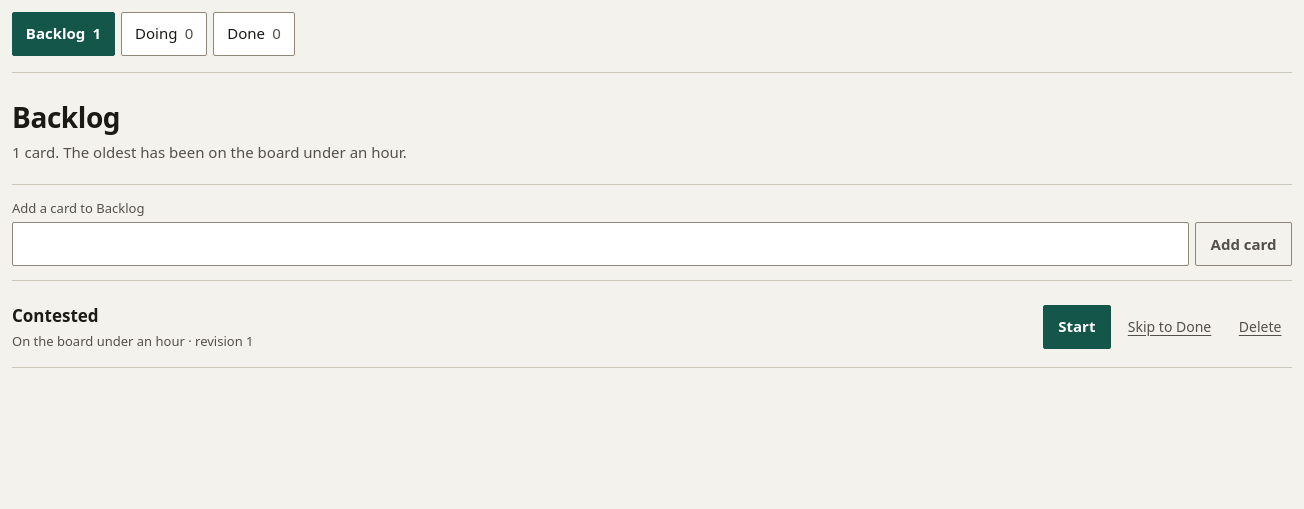
Test case: Board › keeps the board it has and says how to recover when a move is stale
Expected: the text "Contested" is shown, [12,304,99,327]
Click the button named "Start: move \"Contested\" to Doing": (1077, 327) [1043,305,1111,349]
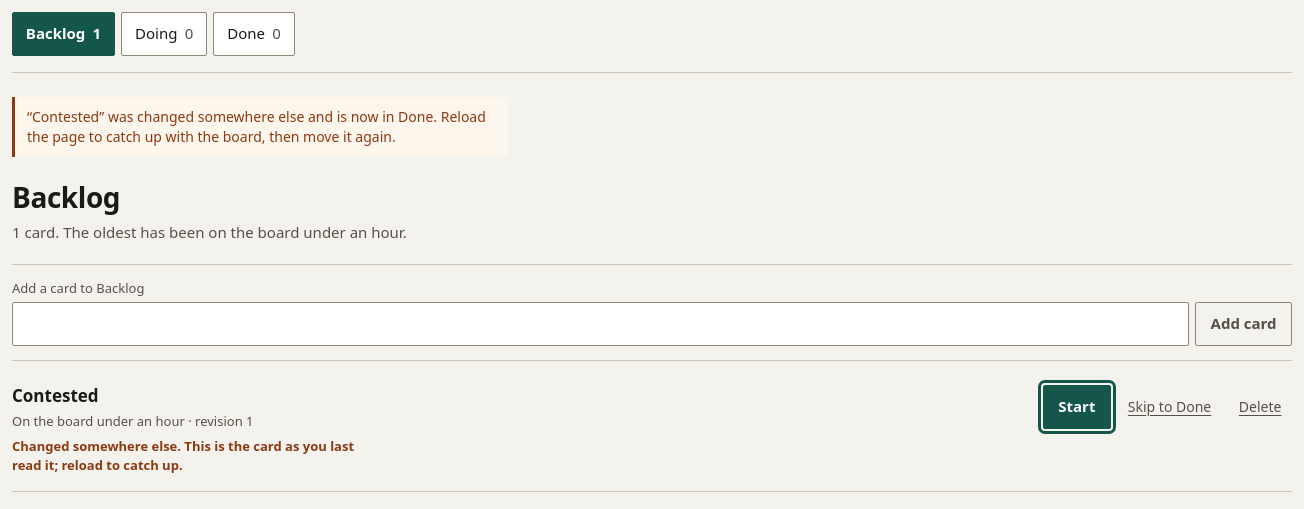
Now the message shows "Contested", box [27,107,486,146]
Now the message shows "Done", box [27,107,486,146]
Now the message shows "Reload", box [27,107,486,146]
